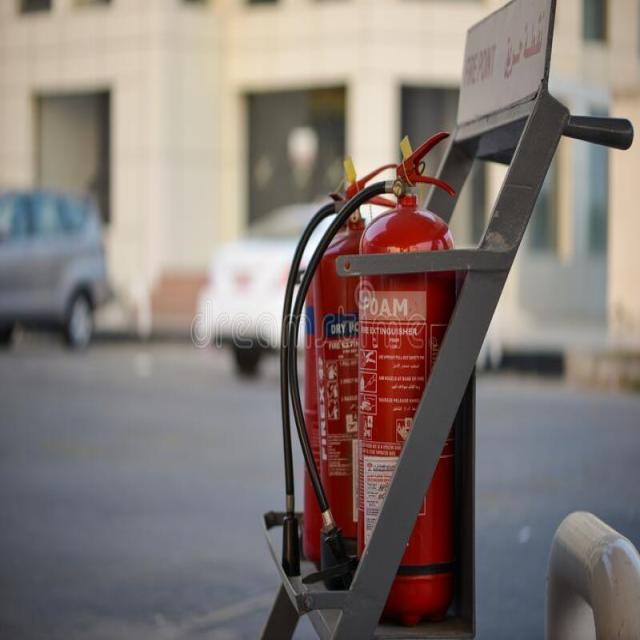fire_extinguisher: (284, 130, 464, 631), (276, 158, 403, 600)
